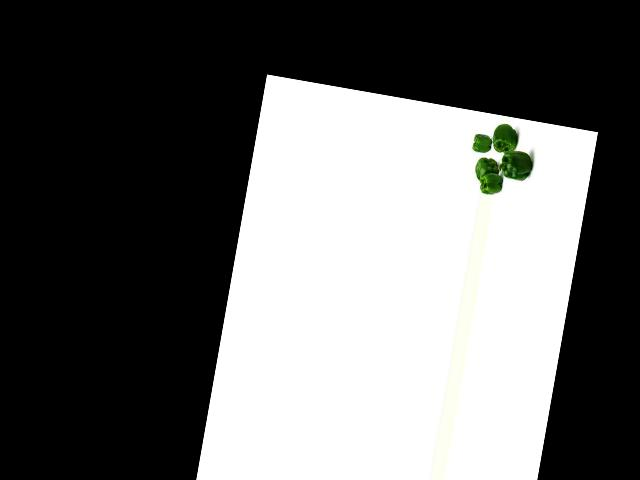bell_pepper: (479, 169, 507, 197)
